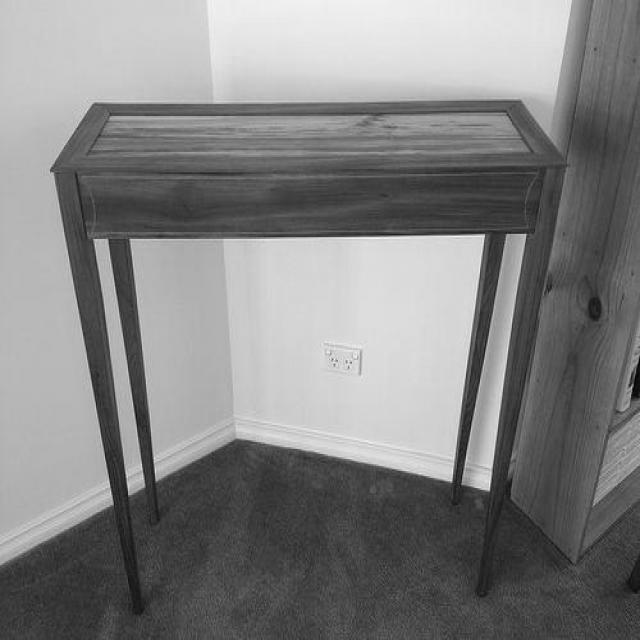table: (54, 100, 572, 615)
